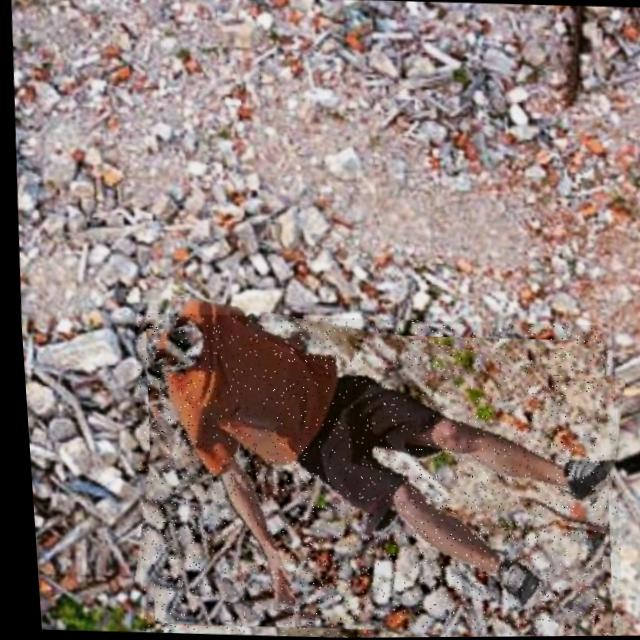Person in Rubble: (118, 309, 625, 639)
